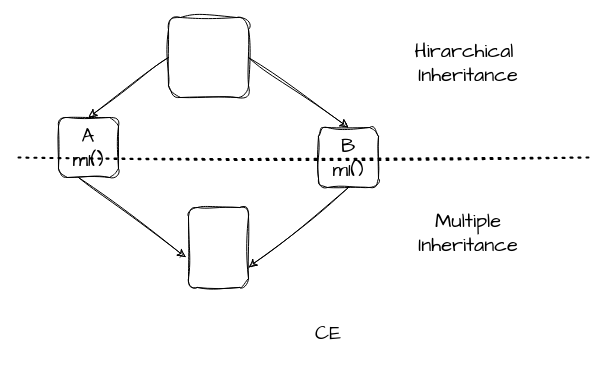
This 607x365 diagram has some shape labels left out. The centre of each missing label's shape, as x and y in pixels:
"C m1() m1()" belongs at pixel 218 247.
"Object clASS" belongs at pixel 208 57.
